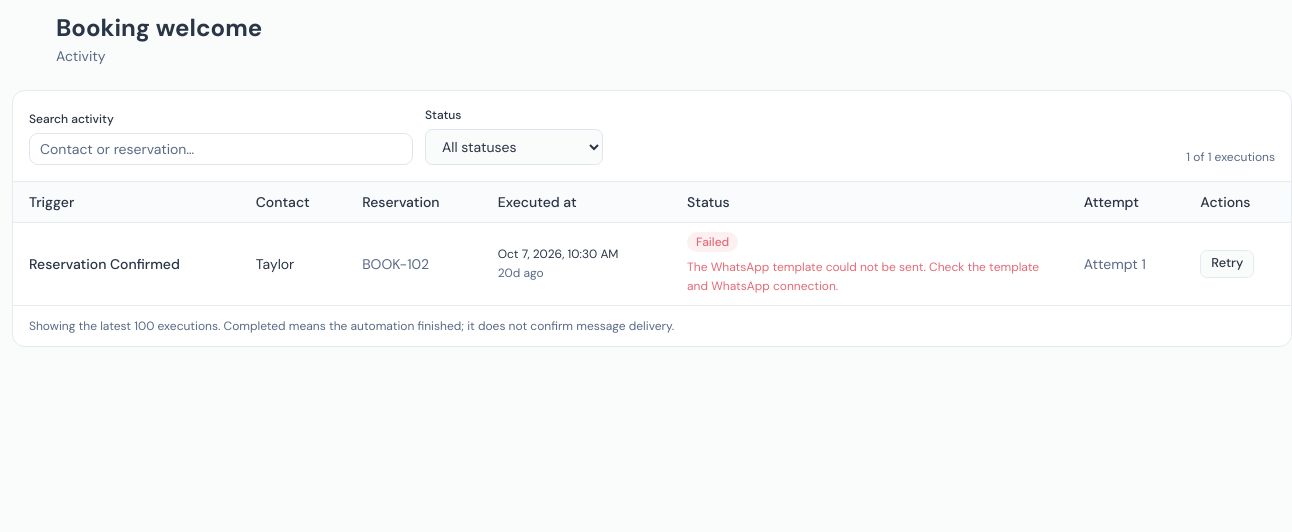
shows concise failure reason and failed timeline, with a neutral skipped step
Click the button "Reservation Confirmed".
click(104, 264)  # box [29,254,180,274]
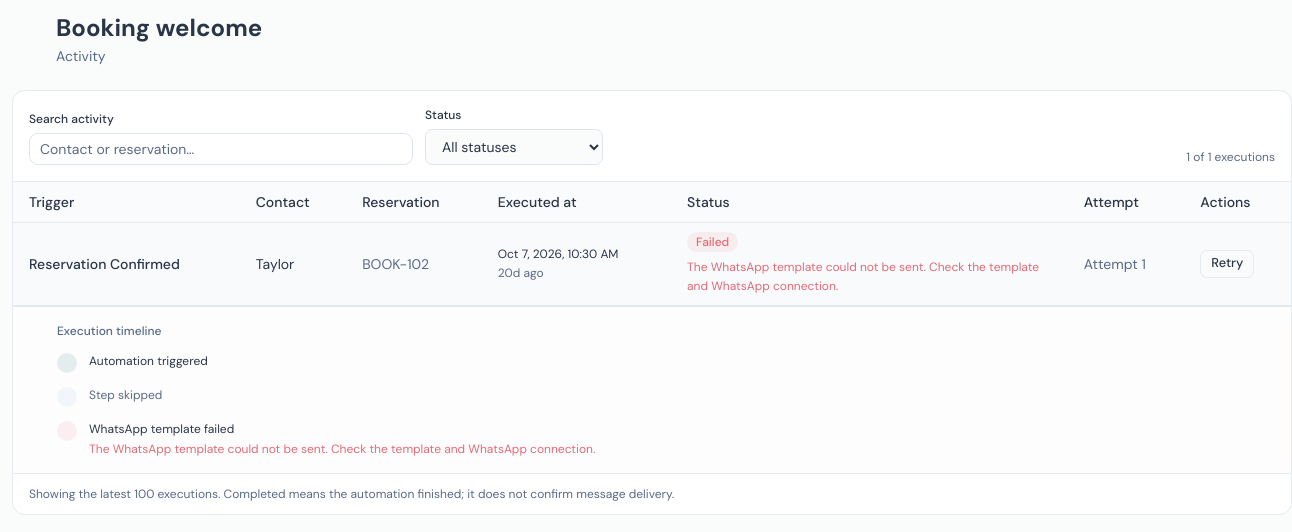
Expected: the text "Check the template and WhatsApp connection." is shown, [687,258,1039,294]
Expected: the text "Step skipped" is shown, [89,386,162,402]
Expected: the text "WhatsApp template failed" is shown, [89,420,234,436]
